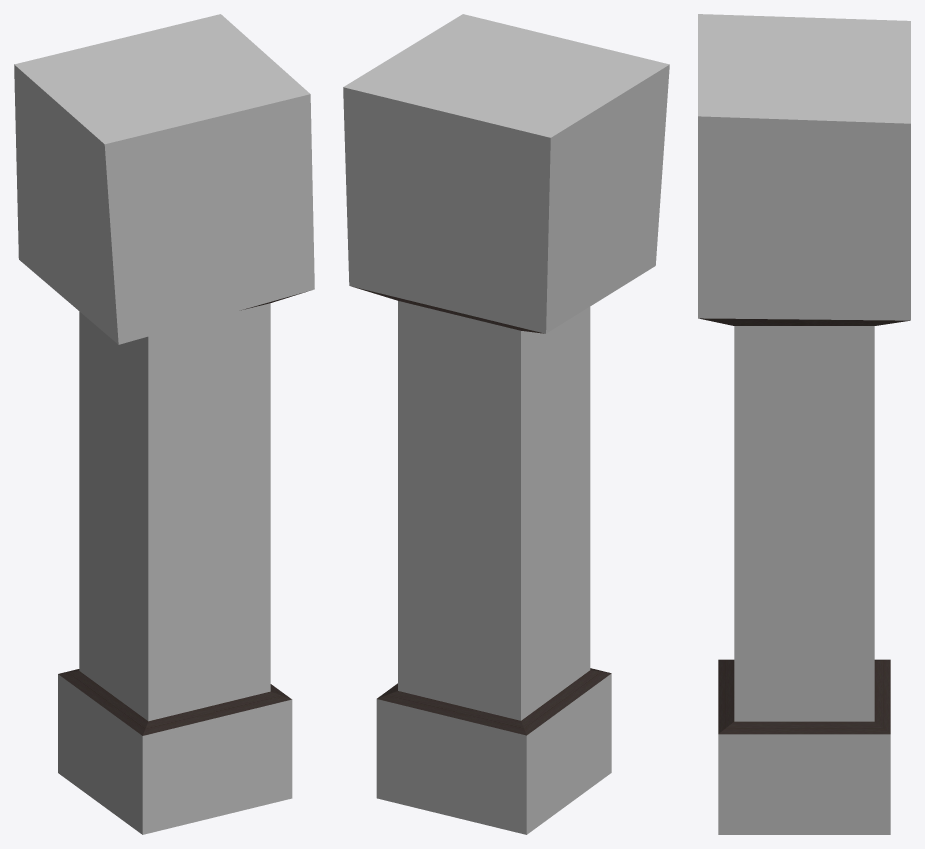
The model's file is Pilar.fbx.
3 renders of one model, left to right at view 1: azimuth 30°, elevation 25°; view 2: azimuth 150°, elevation 25°; view 3: azimuth 270°, elevation 25°, orthographic.
Visible parts, largest first — view 1: pCube3; view 2: pCube3; view 3: pCube3.
Part boxes in pixels (x1,y1,x2,y2): pCube3: [14, 14, 314, 834]; pCube3: [343, 14, 669, 834]; pCube3: [698, 14, 910, 834].
Size of the model in its own units: 4.31 by 13.23 by 3.53.
